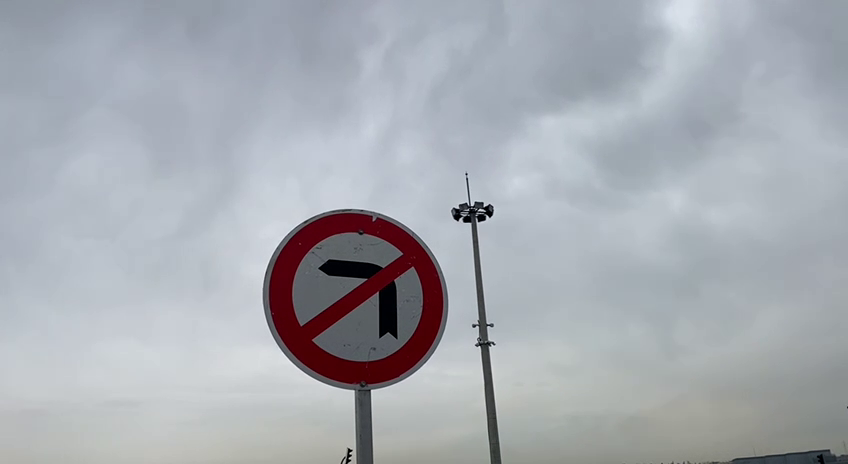noTurnLeft: (252, 202, 457, 396)
